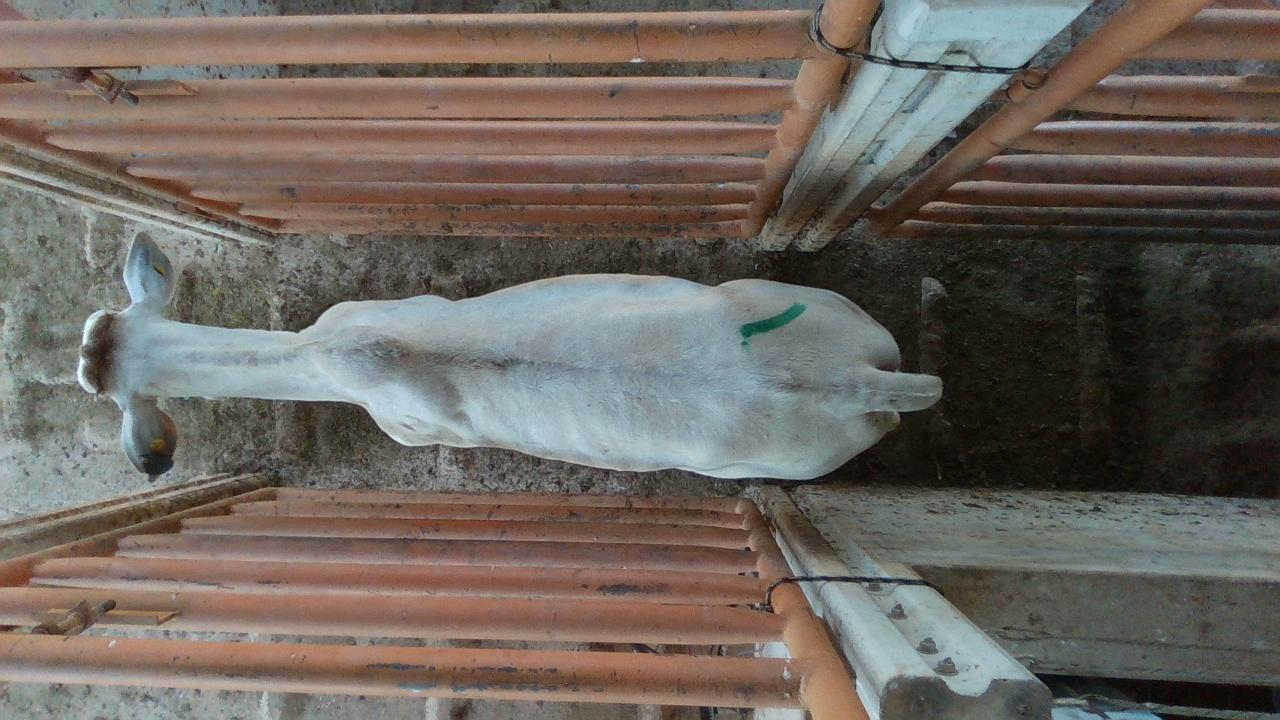cattle: (75, 229, 943, 483)
